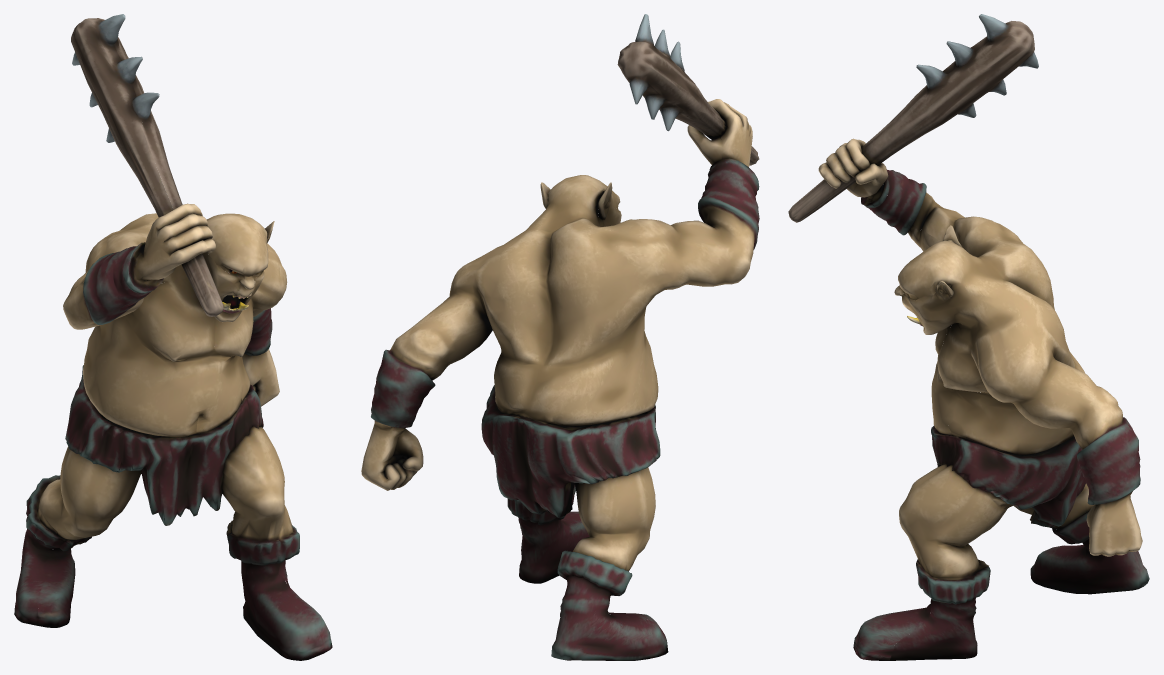
File: MZ4250 - Ogre.glb
3 views of the same model, side by side, from view 1: azimuth 30°, elevation 25°; view 2: azimuth 150°, elevation 25°; view 3: azimuth 270°, elevation 25° (orthographic). The views are drawn at different scales.
Parts seen in each view (by area): view 1: Ogre_Updated_2.001; view 2: Ogre_Updated_2.001; view 3: Ogre_Updated_2.001.
Boxes of the visible parts, bbox=[...] form: Ogre_Updated_2.001: bbox=[14, 14, 332, 660]; Ogre_Updated_2.001: bbox=[361, 14, 759, 660]; Ogre_Updated_2.001: bbox=[788, 14, 1149, 660].
Bounding box in the file's own units: 2.7 × 5.37 × 3.02.
1 material, 1 textured.
